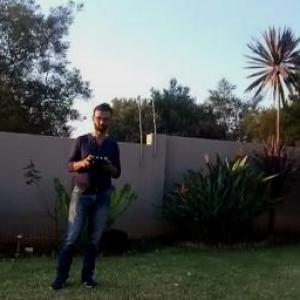follow: (44, 97, 126, 292)
